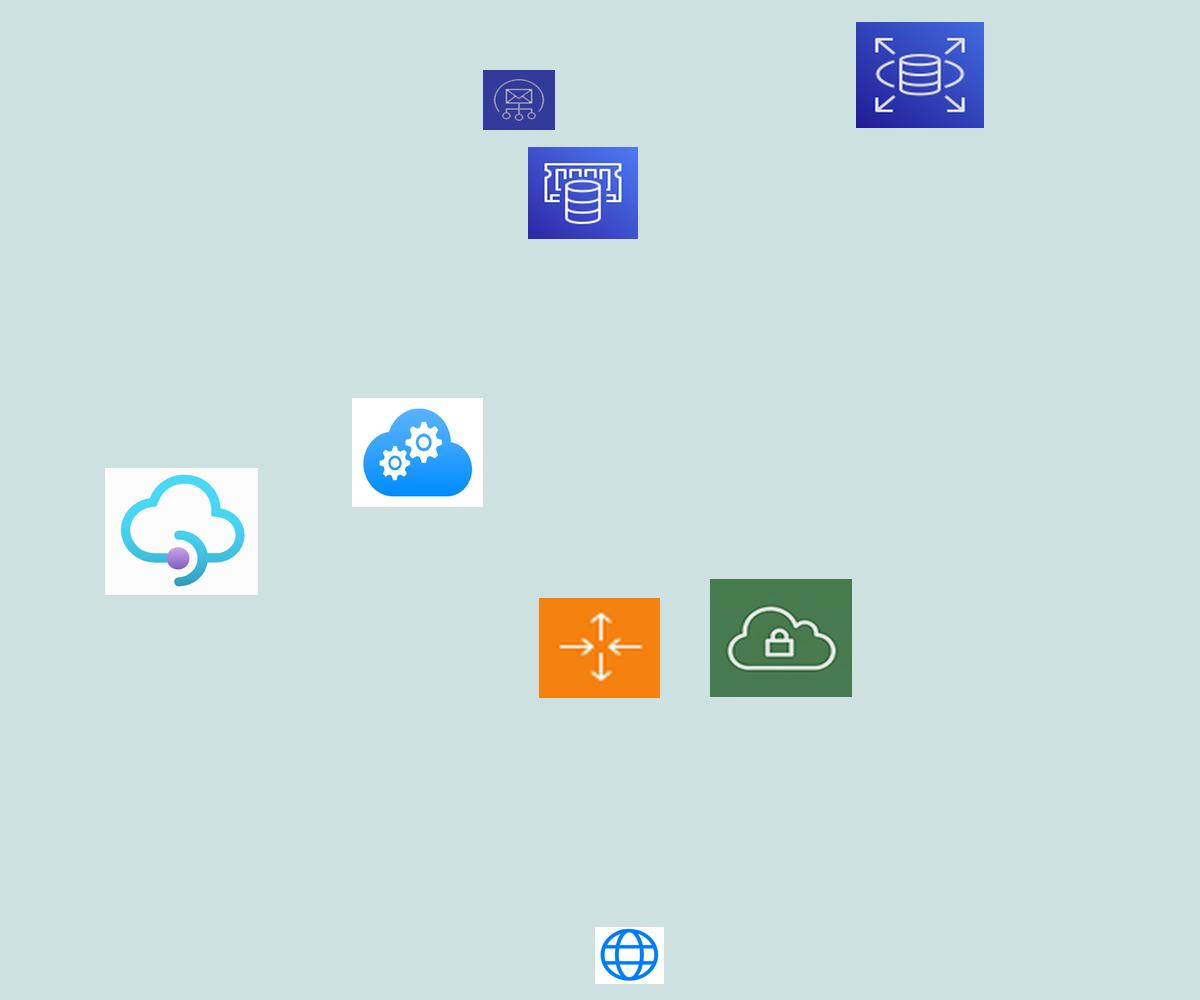AWS-ElastiCache: (528, 147, 638, 239)
AWS-Private_vpc: (710, 579, 852, 697)
AWS-RDS: (856, 22, 984, 128)
AWS-Scaling-group: (539, 598, 660, 698)
AWS-Simple-Email-Service: (483, 70, 555, 130)
Azure_api_gateway: (105, 468, 258, 595)
Azure_cloud_services: (352, 398, 483, 507)
Azure_http: (595, 927, 664, 984)
